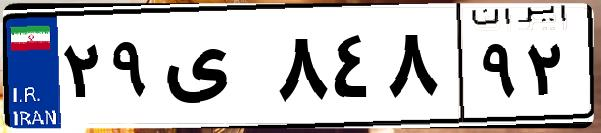2: (57, 26, 110, 100), (525, 38, 570, 115)
4: (330, 28, 385, 110)
8: (270, 28, 330, 110), (385, 28, 445, 110)
9: (475, 38, 525, 113), (110, 28, 158, 98)
ی: (158, 20, 270, 120)
